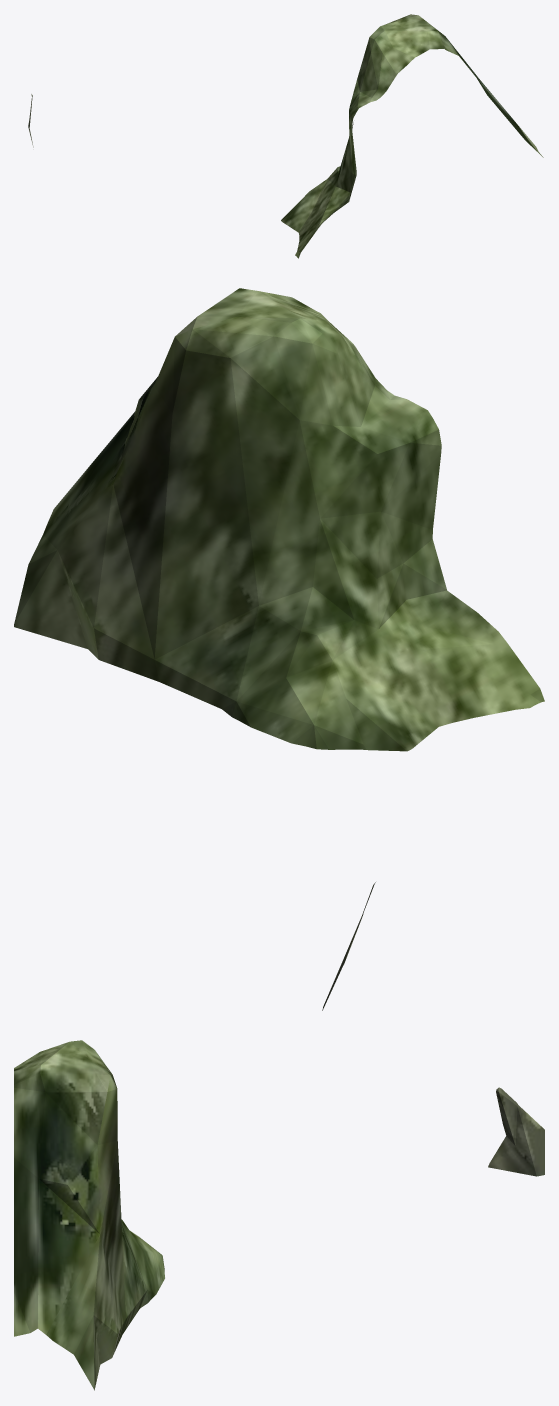
3 renders of one model, top to bottom at view 1: azimuth 30°, elevation 25°; view 2: azimuth 150°, elevation 25°; view 3: azimuth 270°, elevation 25°, orthographic. The views are drawn at different scales.
Size of the model in its own units: 2.95 by 1.58 by 2.95.
1 material, 1 textured.
